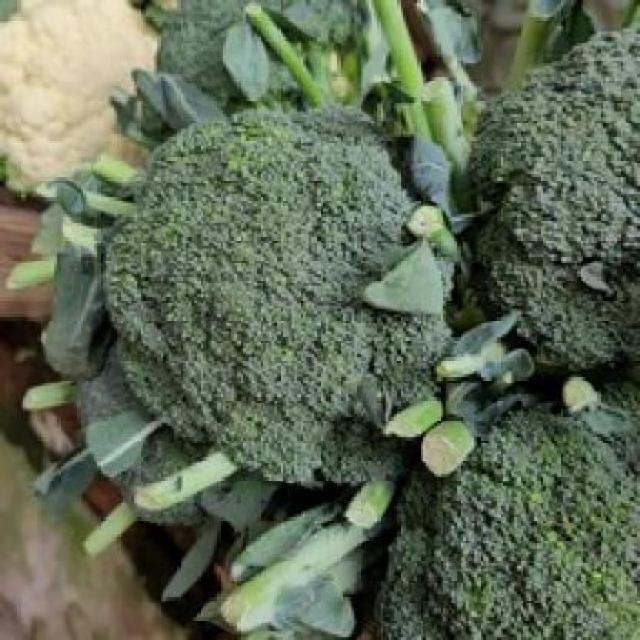broccoli: (106, 112, 452, 486), (472, 40, 638, 369), (394, 414, 637, 637)
